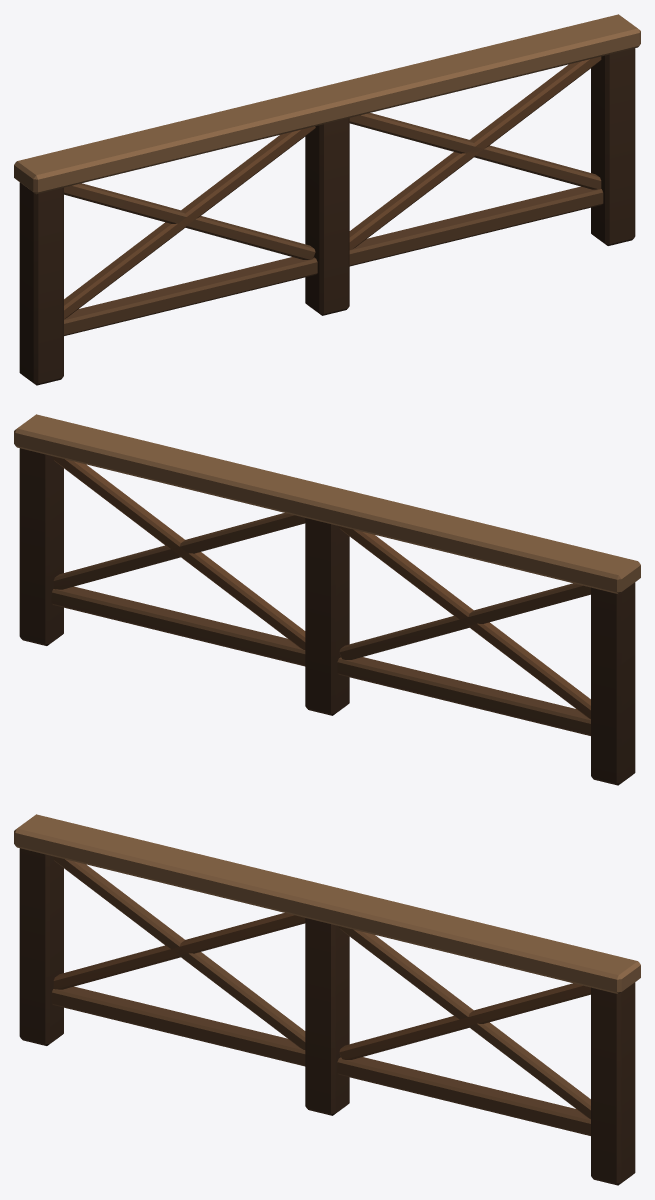
The model's file is piece_woodrailing.glb.
The picture shows the model from 3 angles, top to bottom: view 1: azimuth 30°, elevation 25°; view 2: azimuth 150°, elevation 25°; view 3: azimuth 330°, elevation 25°; orthographic projection.
Parts seen in each view (by area): view 1: Base; view 2: Base; view 3: Base.
Part boxes in pixels (x1,y1,x2,y2): Base: [14, 14, 640, 385]; Base: [14, 414, 640, 785]; Base: [14, 814, 640, 1185].
Bounding box in the file's own units: 4 × 1.34 × 0.26.
